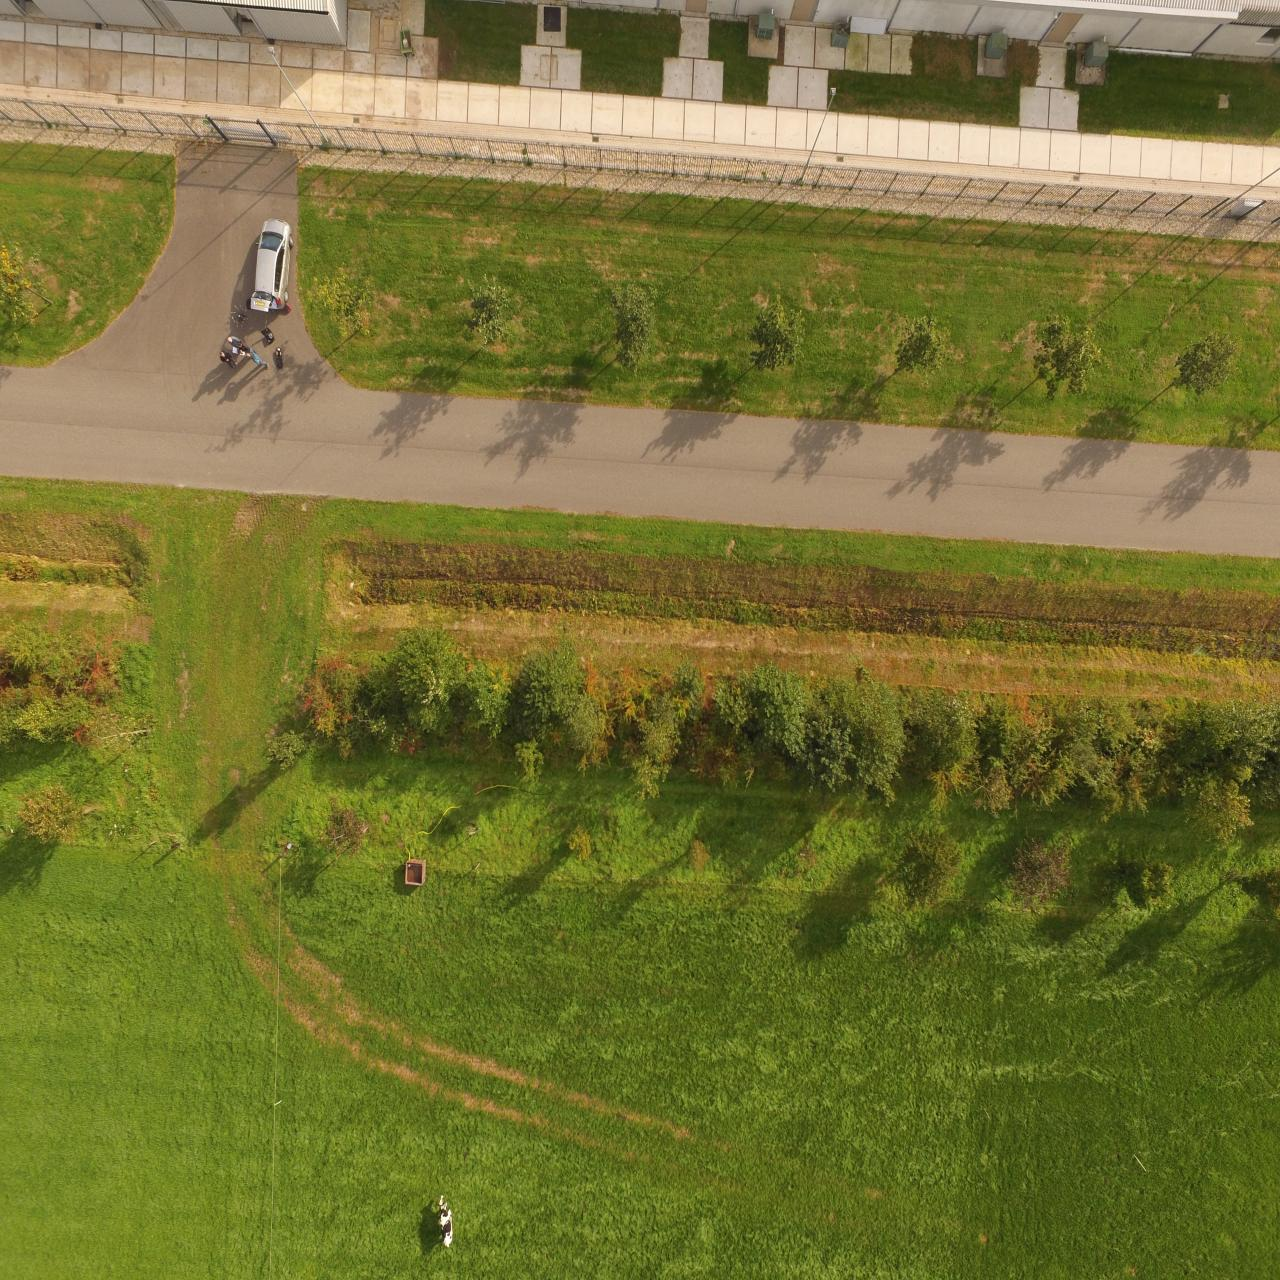cow: (435, 1192, 455, 1248)
